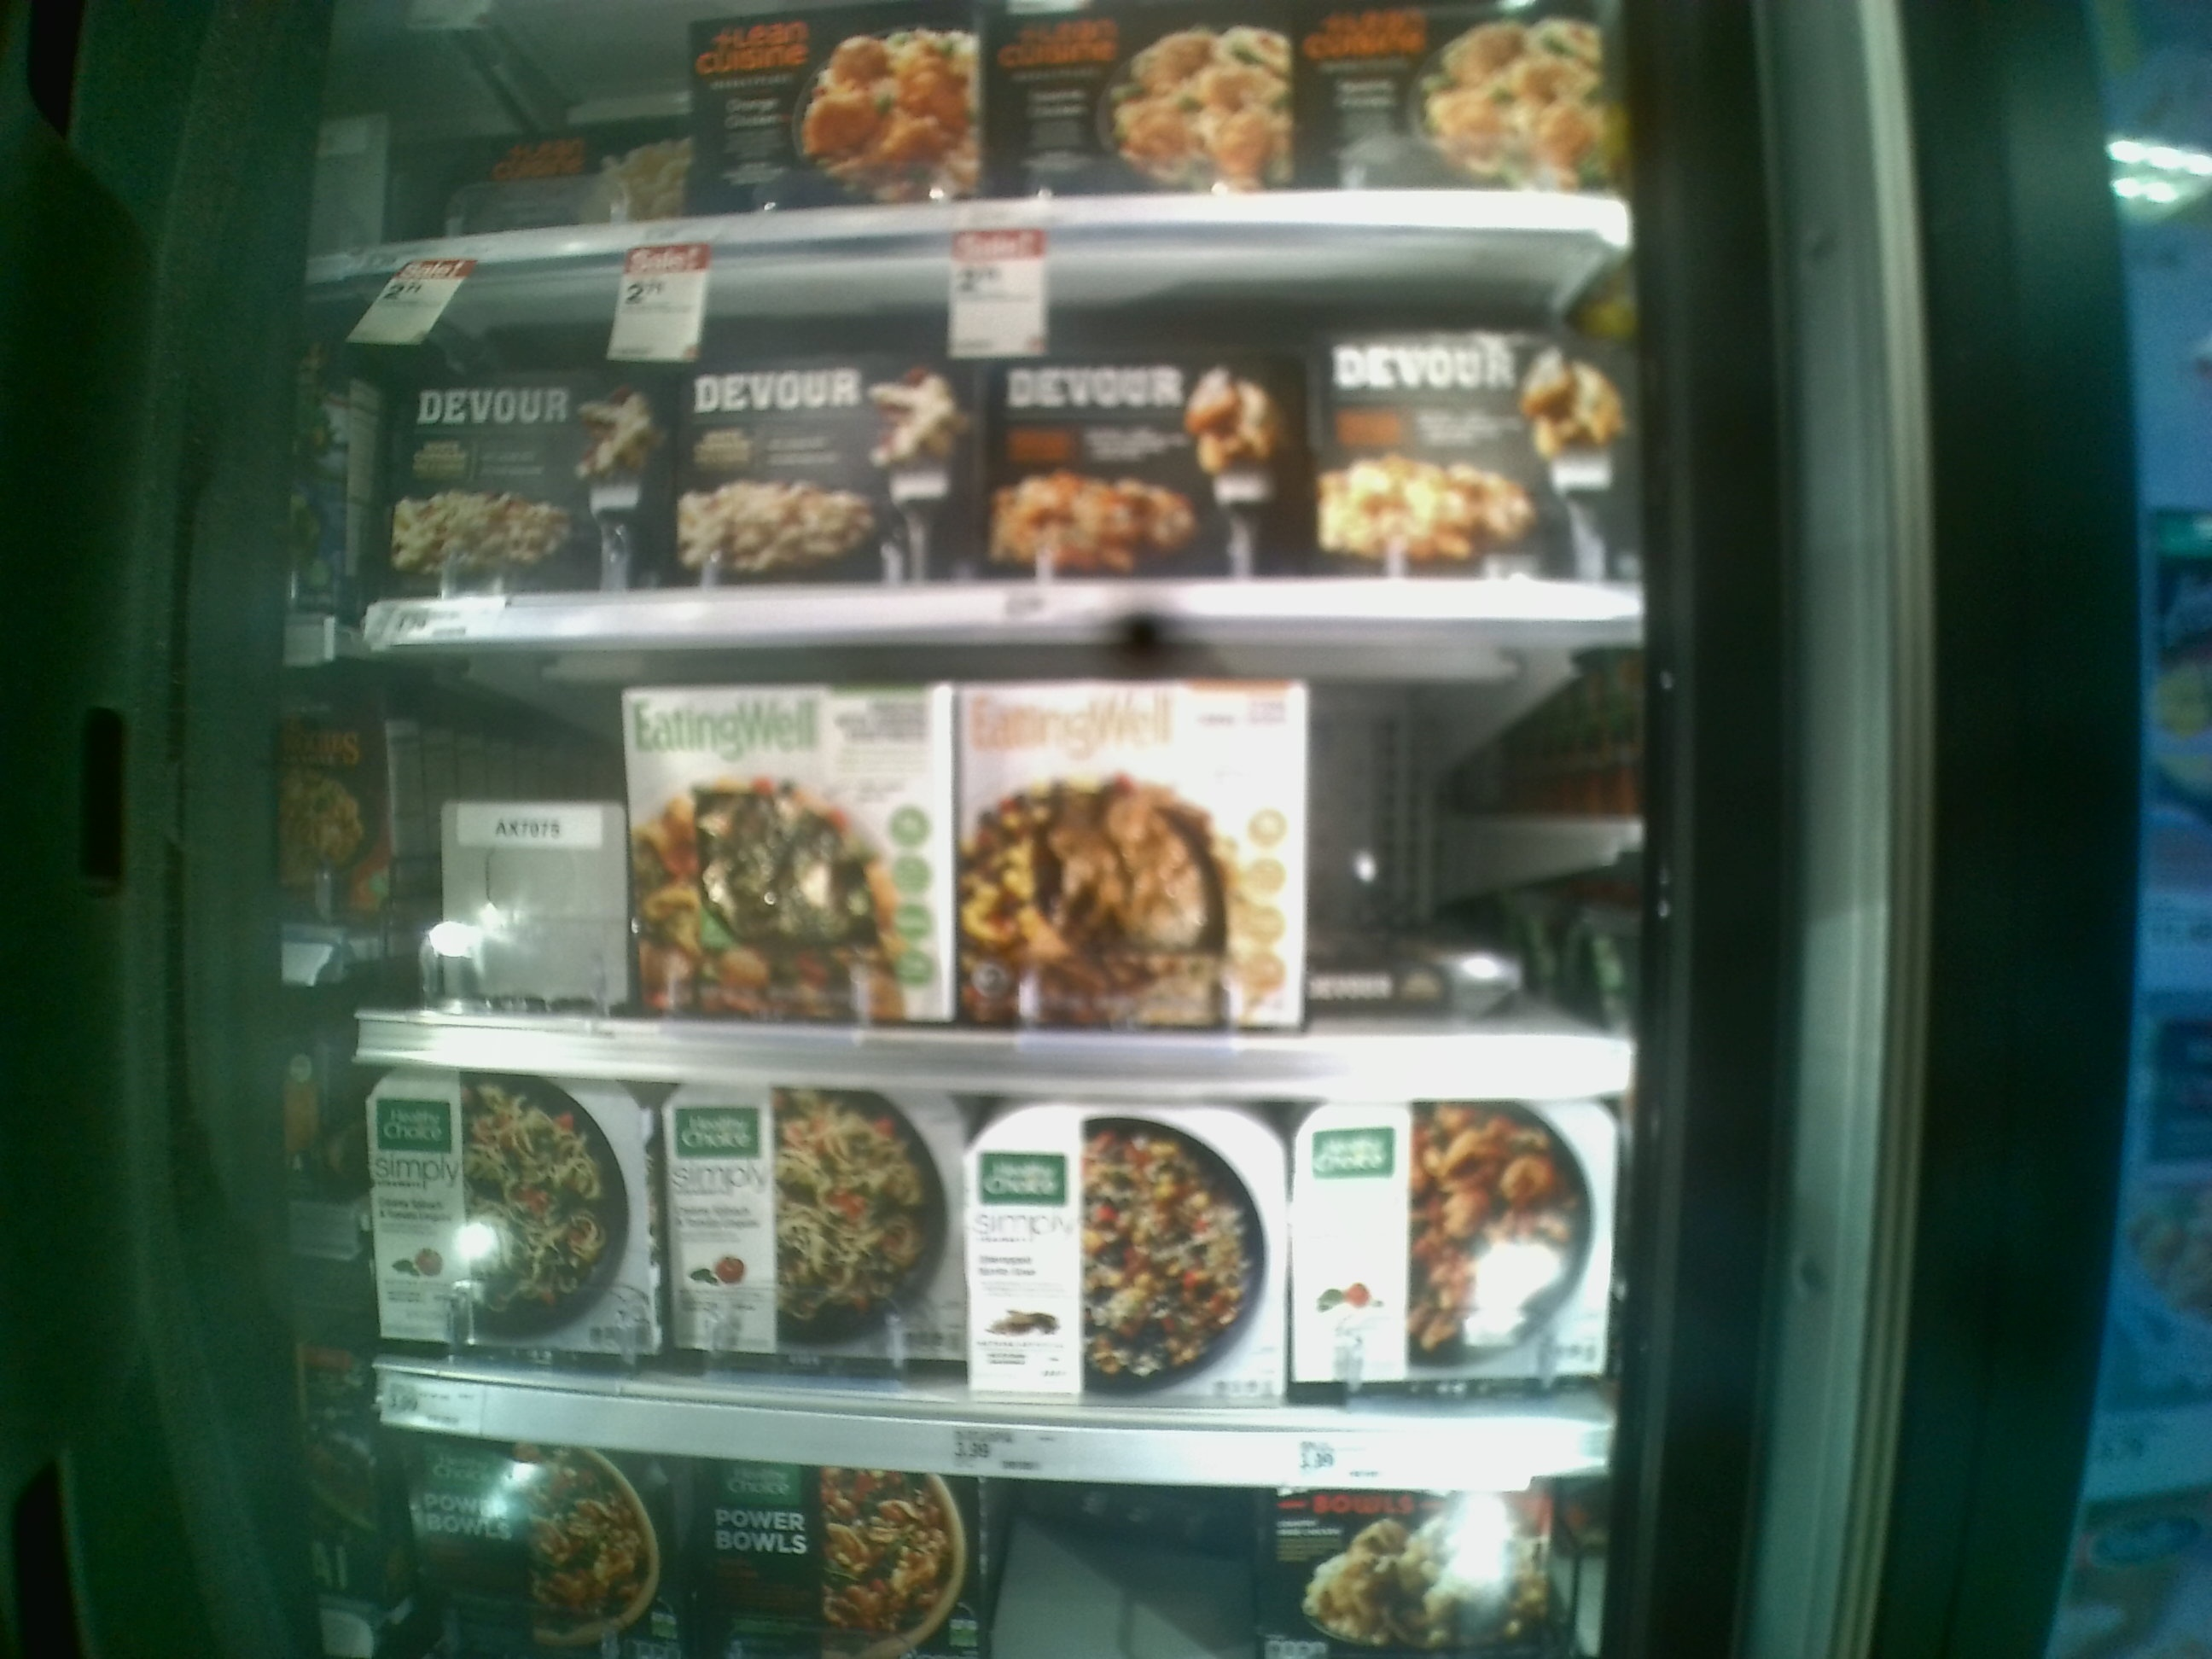shelf: (364, 643, 1634, 1094), (326, 234, 1635, 638), (354, 1063, 1629, 1476)
